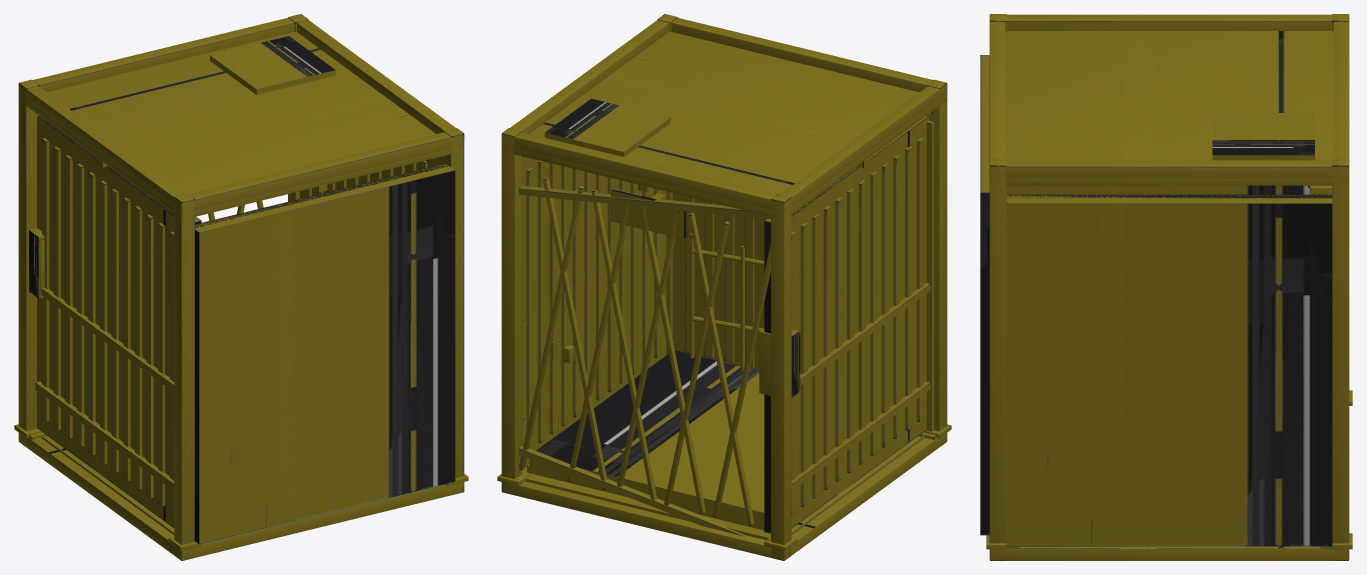
Rendered from BD_elevator_car.glb.
3 renders of one model, left to right at view 1: azimuth 30°, elevation 25°; view 2: azimuth 150°, elevation 25°; view 3: azimuth 270°, elevation 25°, orthographic. The views are drawn at different scales.
Visible parts, largest first — view 1: BD_elevator_car; view 2: BD_elevator_car; view 3: BD_elevator_car.
Part boxes in pixels (<box>): BD_elevator_car: <box>14,14,468,560</box>; BD_elevator_car: <box>497,14,951,560</box>; BD_elevator_car: <box>980,14,1352,560</box>.
Bounding box in the file's own units: 2.18 × 2.55 × 2.18.
Materials: 1 (1 with a texture image).
